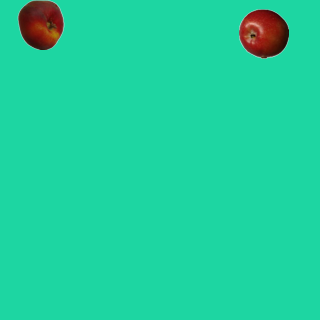Apple Braeburn: (238, 8, 288, 58)
Nectarine Flat: (15, 0, 65, 49)
